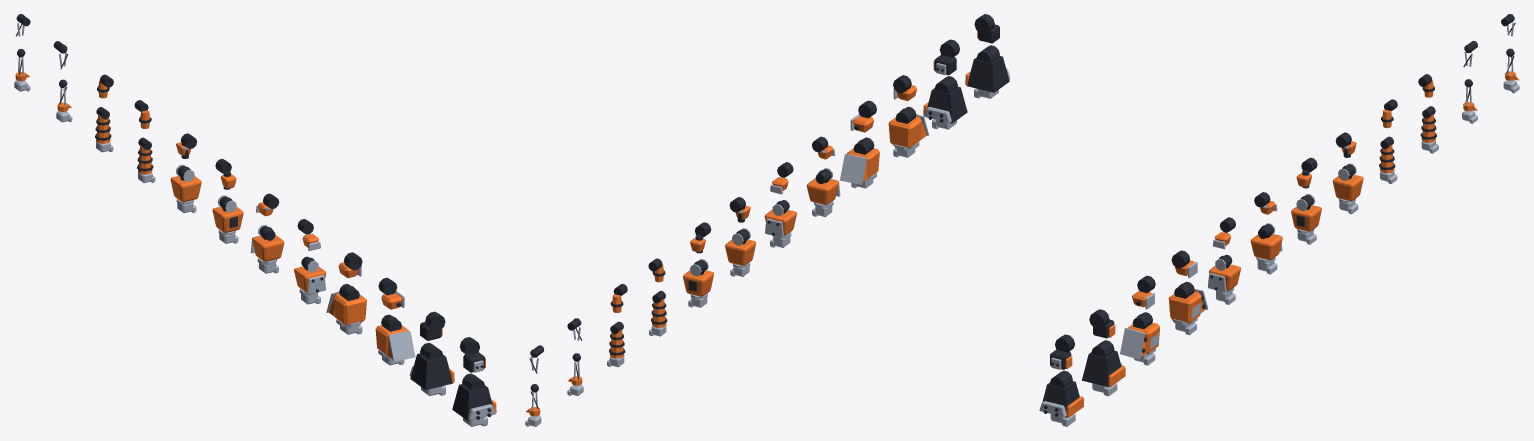
The model's file is arms.glb.
3 views of the same model, side by side, from view 1: azimuth 30°, elevation 25°; view 2: azimuth 150°, elevation 25°; view 3: azimuth 330°, elevation 25° (orthographic).
Visible parts, largest first — view 1: anvil_fore_L, anvil_fore_R, bulwark_fore_R, bulwark_fore_L, brace_fore_L, brace_fore_R, frame_fore_L, frame_fore_R, anvil_upper_R, reed_fore_L, reed_fore_R, bulwark_upper_R (+2 smaller); view 2: anvil_fore_R, anvil_fore_L, bulwark_fore_L, bulwark_fore_R, brace_fore_R, brace_fore_L, frame_fore_R, frame_fore_L, anvil_upper_L, reed_fore_R, reed_fore_L, bulwark_upper_L (+2 smaller); view 3: anvil_fore_R, anvil_fore_L, bulwark_fore_R, bulwark_fore_L, brace_fore_R, brace_fore_L, frame_fore_L, frame_fore_R, anvil_upper_R, reed_fore_R, reed_fore_L, anvil_upper_L (+2 smaller).
Part boxes in pixels (x1,y1,x2,y2): anvil_fore_L: (409, 342, 454, 396); anvil_fore_R: (452, 373, 496, 426); bulwark_fore_R: (375, 314, 415, 365); bulwark_fore_L: (326, 283, 366, 334); brace_fore_L: (250, 224, 284, 273); brace_fore_R: (294, 256, 326, 304); frame_fore_L: (170, 164, 201, 213); frame_fore_R: (212, 195, 243, 243); anvil_upper_R: (459, 337, 485, 372); reed_fore_L: (95, 107, 113, 152); reed_fore_R: (137, 137, 155, 182); bulwark_upper_R: (378, 277, 404, 309); anvil_fore_R: (965, 45, 1010, 98); anvil_fore_L: (923, 76, 967, 129); bulwark_fore_L: (840, 137, 879, 188); bulwark_fore_R: (888, 106, 928, 157); brace_fore_R: (806, 168, 840, 216); brace_fore_L: (764, 200, 796, 247); frame_fore_R: (725, 228, 756, 276); frame_fore_L: (683, 259, 713, 307); anvil_upper_L: (933, 39, 959, 75); reed_fore_R: (649, 291, 667, 336); reed_fore_L: (607, 321, 625, 367); bulwark_upper_L: (850, 100, 876, 132); anvil_fore_R: (1039, 370, 1083, 426); anvil_fore_L: (1082, 340, 1125, 396); bulwark_fore_R: (1120, 312, 1159, 365); bulwark_fore_L: (1168, 281, 1208, 335); brace_fore_R: (1208, 254, 1240, 304); brace_fore_L: (1250, 223, 1282, 274); frame_fore_L: (1332, 163, 1363, 214); frame_fore_R: (1291, 194, 1321, 244); anvil_upper_R: (1050, 334, 1074, 369); reed_fore_R: (1379, 136, 1397, 183); reed_fore_L: (1420, 106, 1438, 153); anvil_upper_L: (1089, 309, 1115, 338).
Bounding box in the file's own units: 0.3745 × 1 × 10.22.
